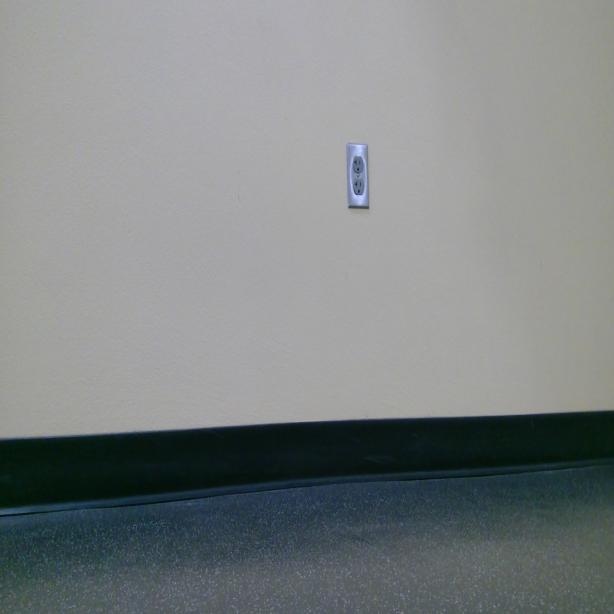typeb: (353, 155, 364, 171), (354, 178, 364, 194)
